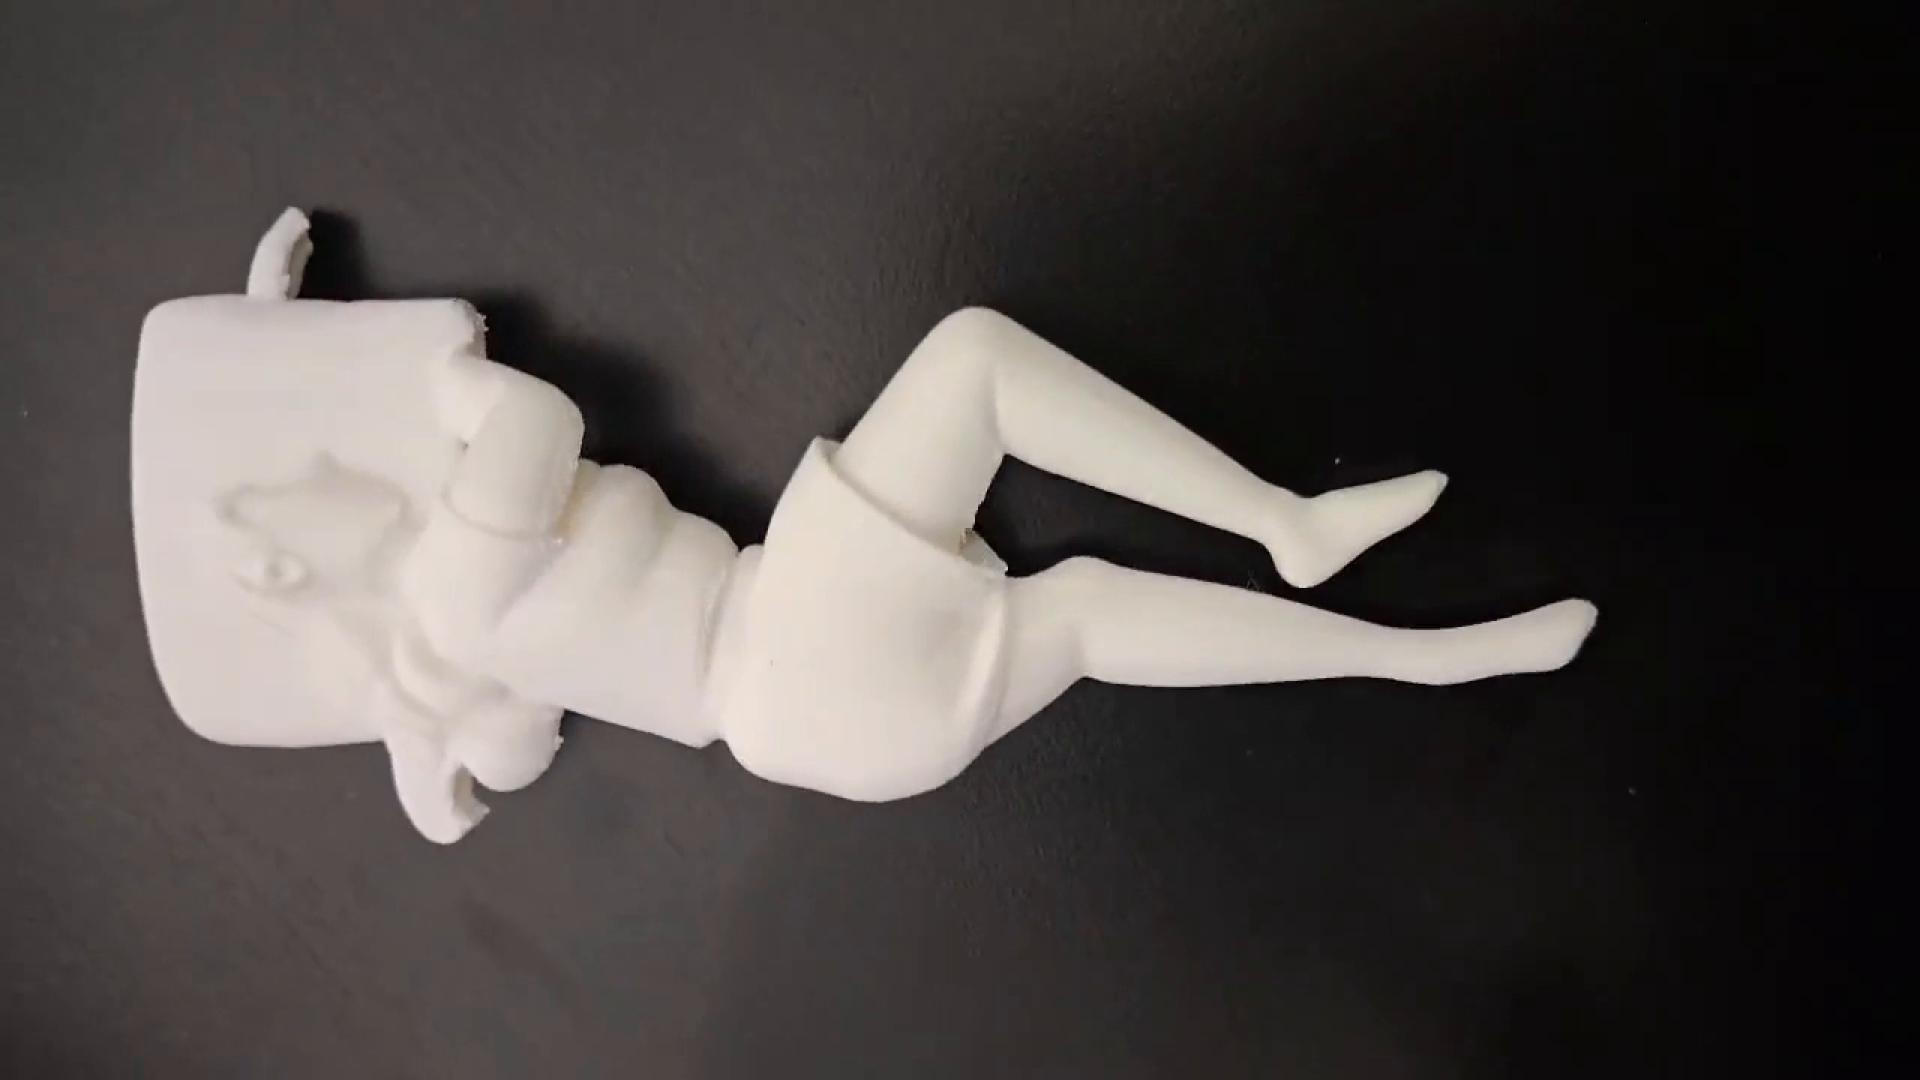Good-style: (135, 199, 1607, 847)
